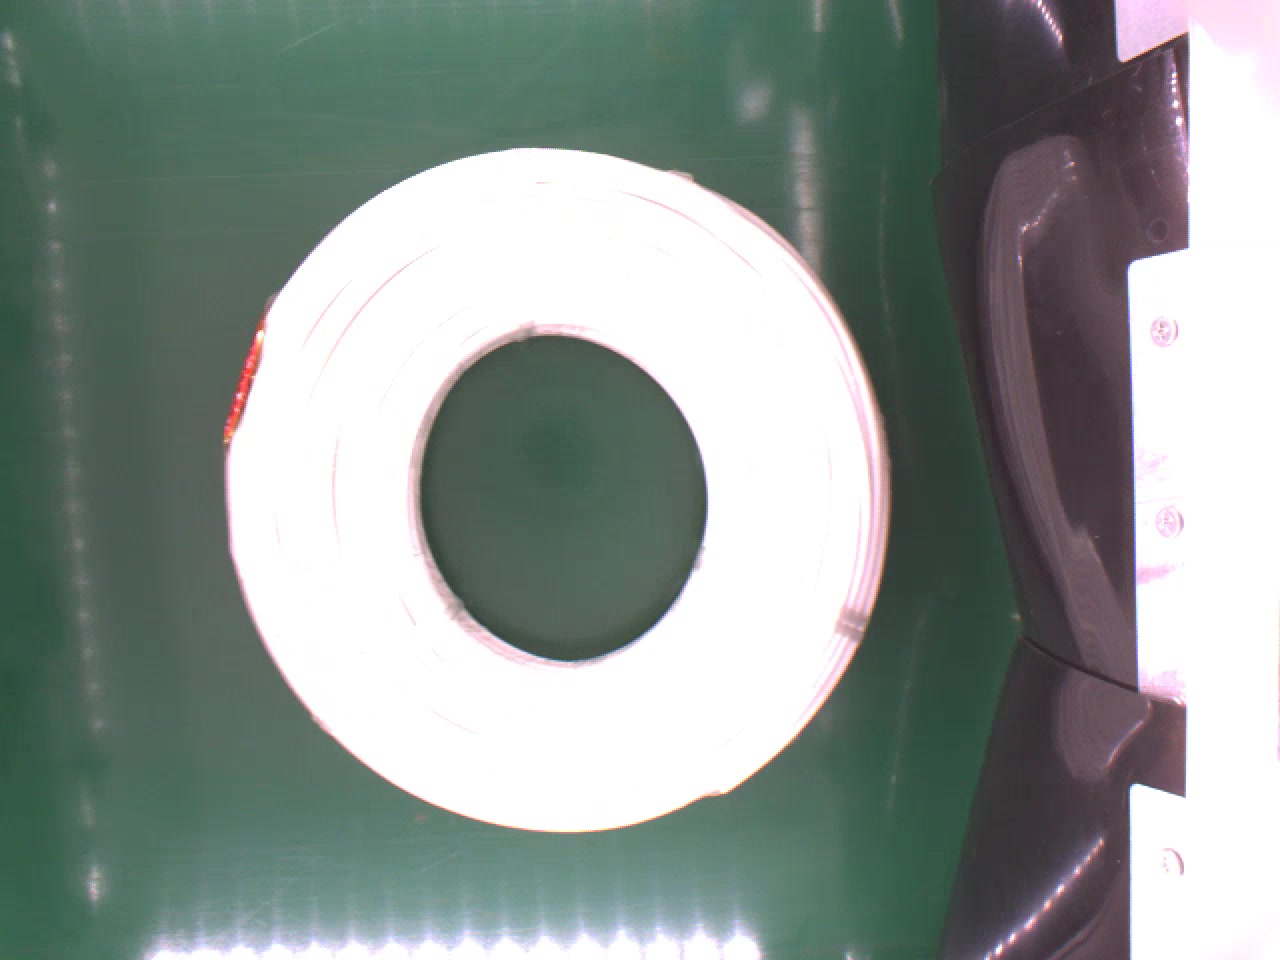white: (218, 140, 899, 836)
